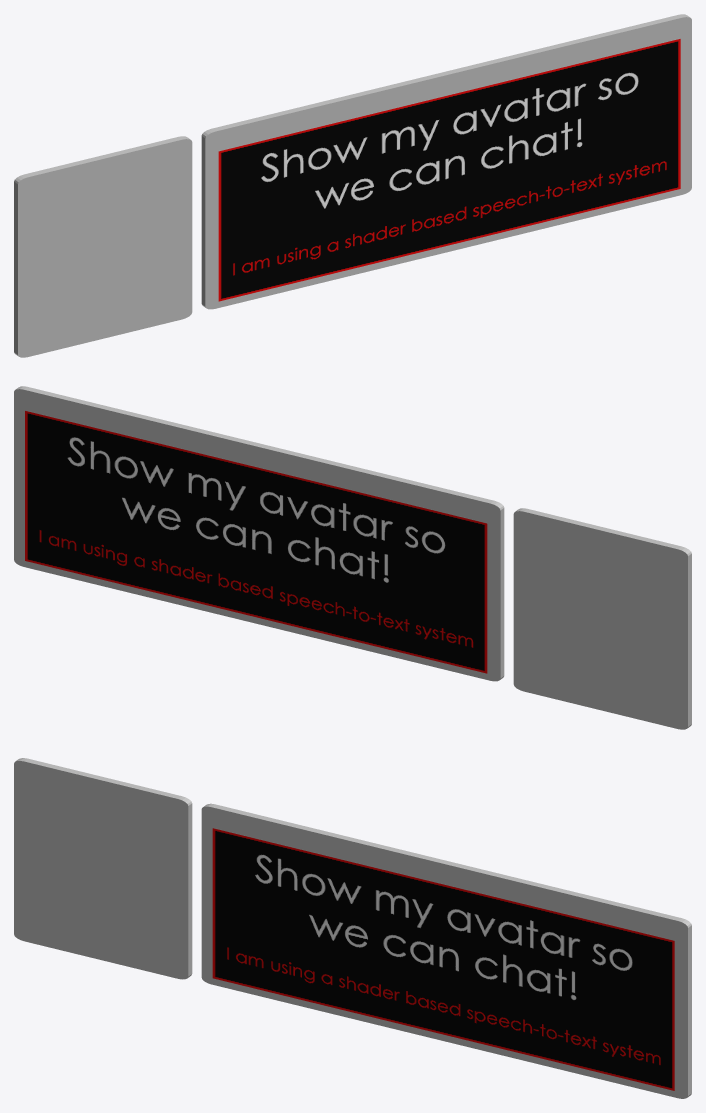
Rendered from Windows 11 Blendshape.fbx.
The picture shows the model from 3 angles, top to bottom: view 1: azimuth 30°, elevation 25°; view 2: azimuth 150°, elevation 25°; view 3: azimuth 330°, elevation 25°; orthographic projection.
Visible parts, largest first — view 1: Show Avatar, Windows 11 Board, Typing Dots; view 2: Show Avatar, Windows 11 Board, Typing Dots; view 3: Show Avatar, Windows 11 Board, Typing Dots.
Boxes of the visible parts, <box> form: Show Avatar: <box>218,39,680,301</box>; Windows 11 Board: <box>14,14,691,357</box>; Typing Dots: <box>218,38,680,301</box>; Show Avatar: <box>25,411,487,673</box>; Windows 11 Board: <box>14,386,691,729</box>; Typing Dots: <box>25,410,487,673</box>; Show Avatar: <box>212,828,674,1090</box>; Windows 11 Board: <box>14,758,691,1098</box>; Typing Dots: <box>213,828,675,1090</box>.
Size of the model in its own units: 81.65 by 20.81 by 1.28.
